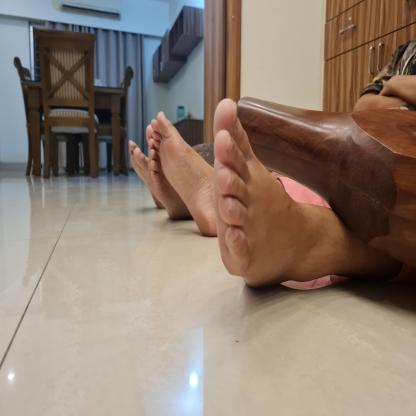leg: (211, 94, 396, 295), (149, 108, 214, 237), (126, 136, 164, 210)
